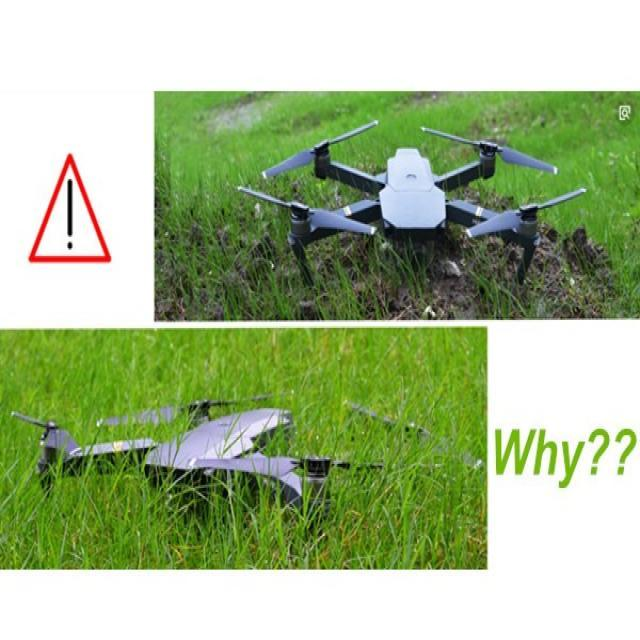drone: (1, 381, 453, 539), (248, 112, 596, 306)
